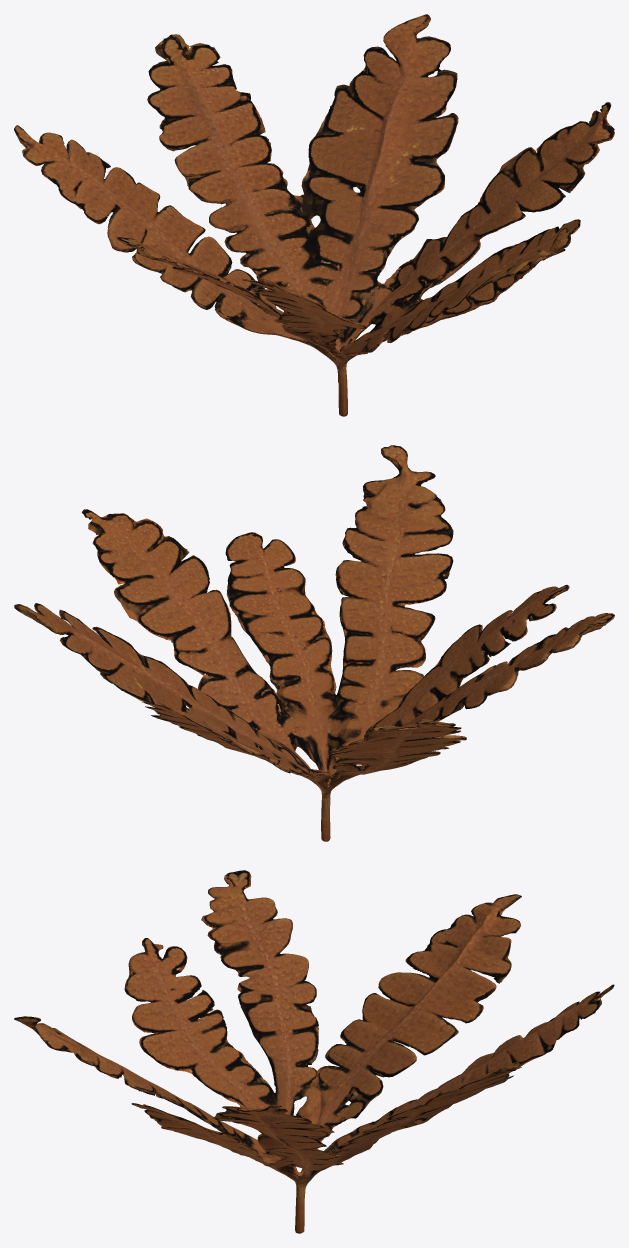
The picture shows the model from 3 angles, top to bottom: view 1: azimuth 30°, elevation 25°; view 2: azimuth 150°, elevation 25°; view 3: azimuth 270°, elevation 25°; orthographic projection. The views are drawn at different scales.
Visible parts, largest first — view 1: world; view 2: world; view 3: world.
Boxes of the visible parts, left/top/right/bottom form: world: left=14, top=14, right=614, bottom=416; world: left=14, top=445, right=614, bottom=841; world: left=14, top=870, right=614, bottom=1233.
Size of the model in its own units: 0.9186 by 0.4655 by 0.9977.
Materials: 1 (1 with a texture image).
